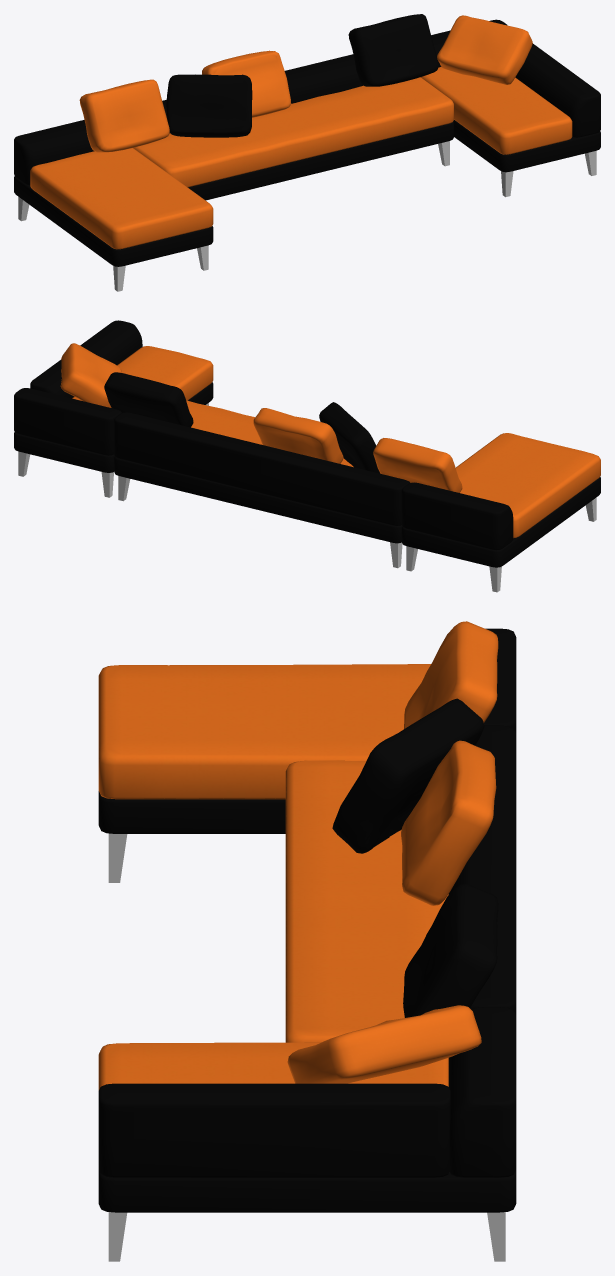
3 renders of one model, top to bottom at view 1: azimuth 30°, elevation 25°; view 2: azimuth 150°, elevation 25°; view 3: azimuth 270°, elevation 25°, orthographic. The views are drawn at different scales.
Parts seen in each view (by area): view 1: Canape_Part01, Canape_Part02, Canape_Part03, Coussin002, Coussin001, Coussin004, Coussin005, Coussin003; view 2: Canape_Part01, Canape_Part02, Canape_Part03, Coussin004, Coussin001, Coussin003, Coussin005, Coussin002; view 3: Canape_Part03, Canape_Part02, Canape_Part01, Coussin003, Coussin002, Coussin005, Coussin004, Coussin001.
Boxes of the visible parts, <box> form: Canape_Part01: <box>133,54,453,200</box>; Canape_Part02: <box>14,120,213,291</box>; Canape_Part03: <box>421,19,600,197</box>; Coussin002: <box>166,74,252,137</box>; Coussin001: <box>79,79,169,152</box>; Coussin004: <box>348,14,438,86</box>; Coussin005: <box>437,15,532,84</box>; Coussin003: <box>202,50,291,117</box>; Canape_Part01: <box>114,400,410,568</box>; Canape_Part02: <box>401,433,600,592</box>; Canape_Part03: <box>14,320,213,497</box>; Coussin004: <box>104,372,193,427</box>; Coussin001: <box>373,438,462,492</box>; Coussin003: <box>253,408,343,463</box>; Coussin005: <box>60,343,121,407</box>; Coussin002: <box>319,402,380,473</box>; Canape_Part03: <box>98,1007,516,1261</box>; Canape_Part02: <box>98,628,516,882</box>; Canape_Part01: <box>285,725,516,1042</box>; Coussin003: <box>401,740,496,905</box>; Coussin002: <box>332,698,484,853</box>; Coussin005: <box>287,1005,481,1083</box>; Coussin004: <box>403,884,498,1017</box>; Coussin001: <box>404,621,498,728</box>.
Bounding box in the file's own units: 2 × 0.4684 × 0.7414.
Materials: 6 (6 with a texture image).
